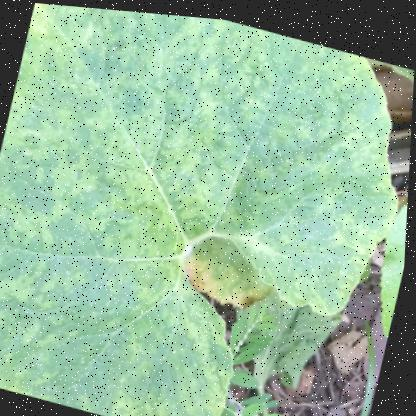CassavaMosaicDisease: (146, 11, 406, 317), (38, 7, 349, 235), (0, 187, 264, 415), (0, 0, 244, 244), (0, 268, 197, 412)
